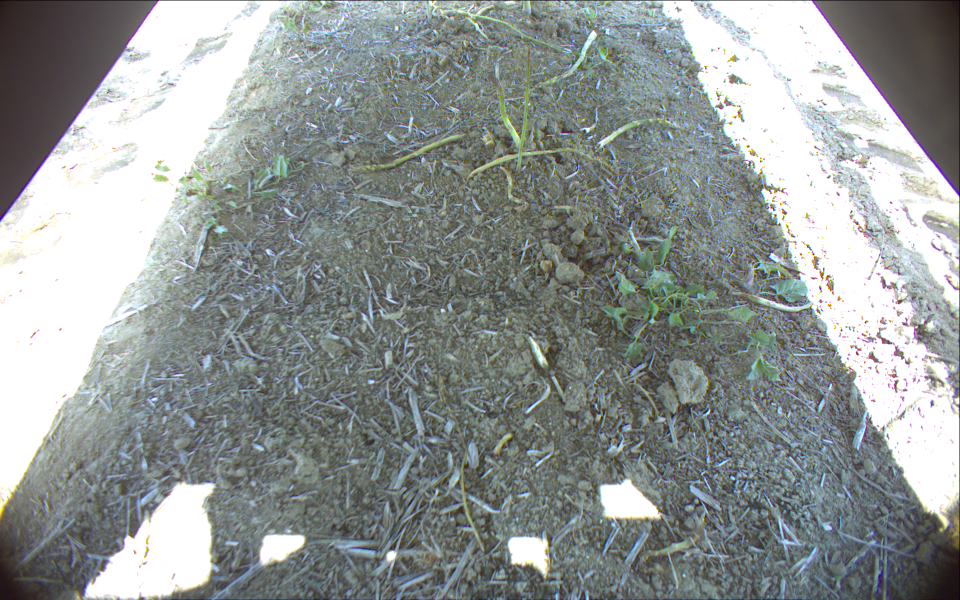aspa: (441, 9, 571, 53), (352, 133, 465, 174), (467, 149, 608, 178), (534, 29, 597, 89), (596, 116, 686, 149), (491, 74, 519, 145), (735, 291, 813, 313), (516, 50, 530, 171), (500, 166, 528, 212), (463, 17, 491, 43), (472, 5, 495, 19), (521, 1, 533, 14)
